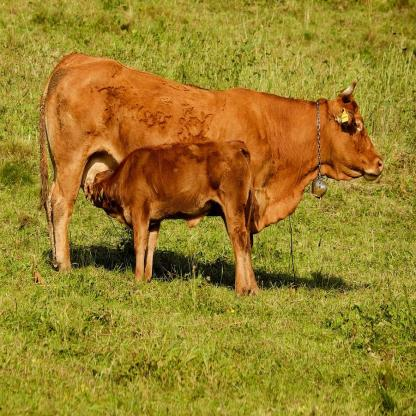cow: (38, 54, 383, 298), (94, 142, 253, 298)
